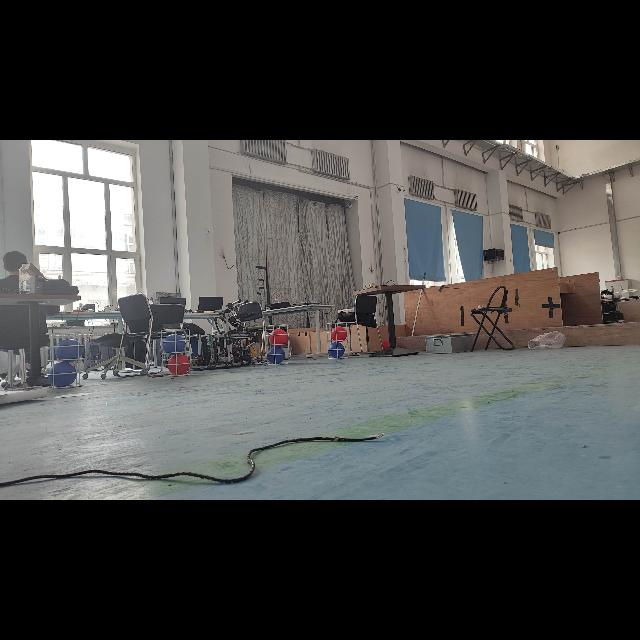B: (50, 362, 78, 386), (55, 338, 83, 362), (164, 334, 186, 354), (268, 348, 286, 364), (329, 342, 345, 358)
R: (168, 356, 192, 374), (271, 330, 289, 346), (329, 326, 347, 342)
S: (46, 331, 84, 391), (159, 328, 195, 378), (262, 323, 294, 367), (324, 322, 352, 362)
